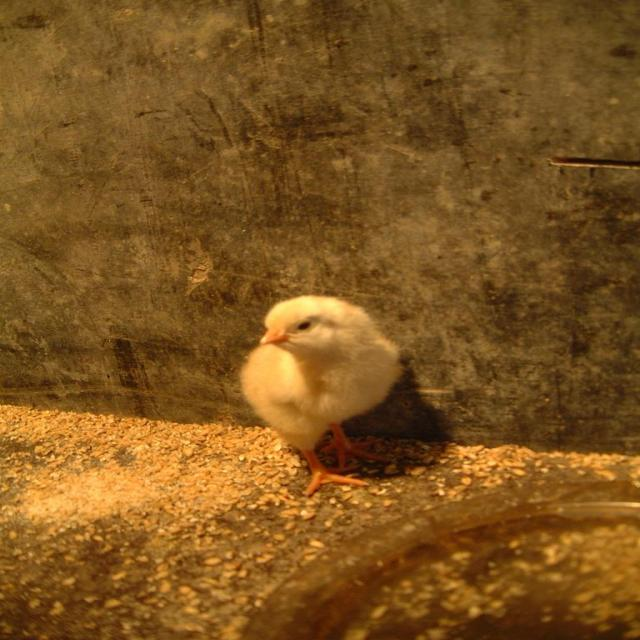Chicken: (240, 292, 400, 488)
